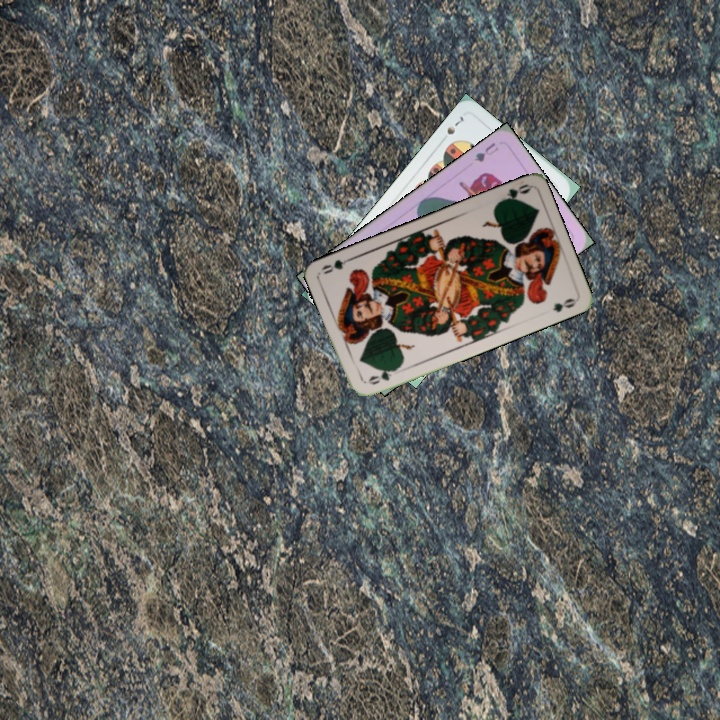GO: (494, 180, 533, 206), (364, 363, 401, 387)
GU: (470, 138, 501, 165)
S7: (443, 112, 466, 137)
